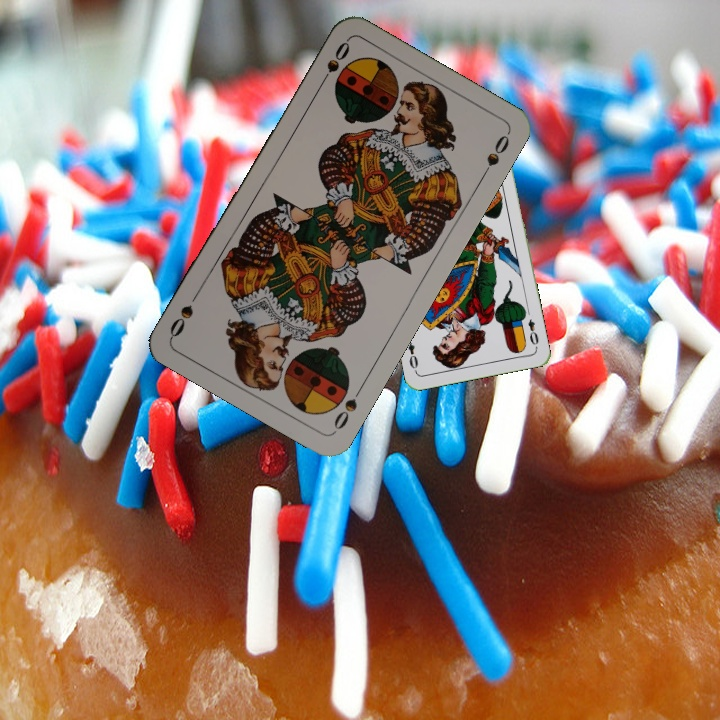EO: (524, 315, 541, 351)
SO: (314, 37, 353, 91), (329, 381, 366, 435)
